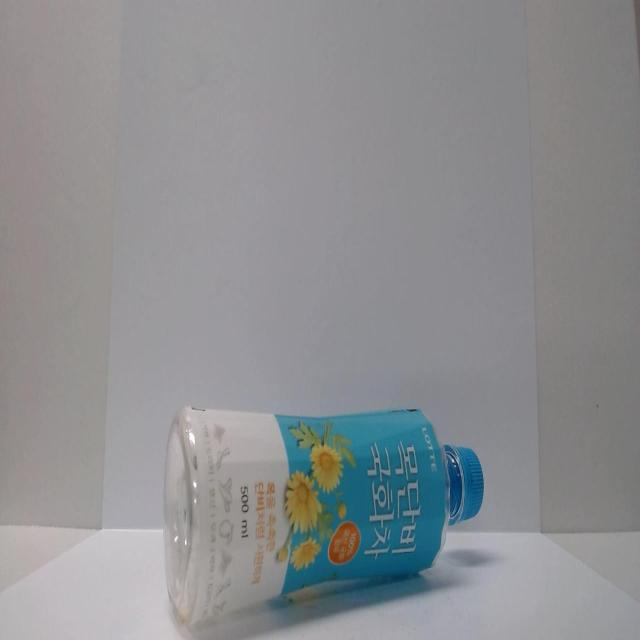bottle: (155, 397, 485, 636)
